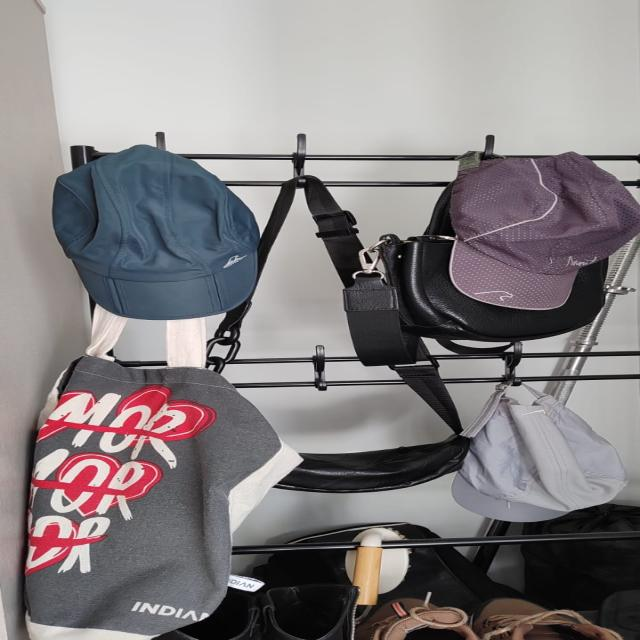Gorra: (38, 139, 283, 327), (427, 140, 640, 319)
